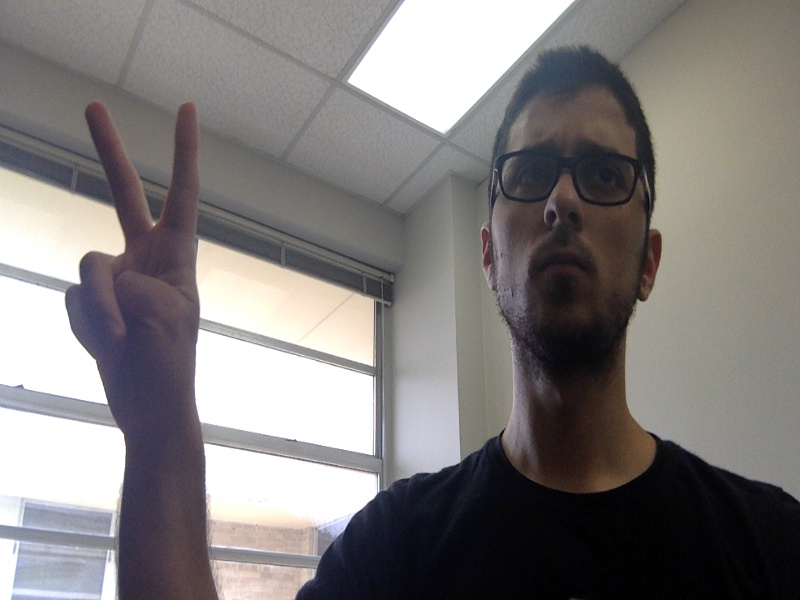2-hand: (65, 102, 200, 417)
